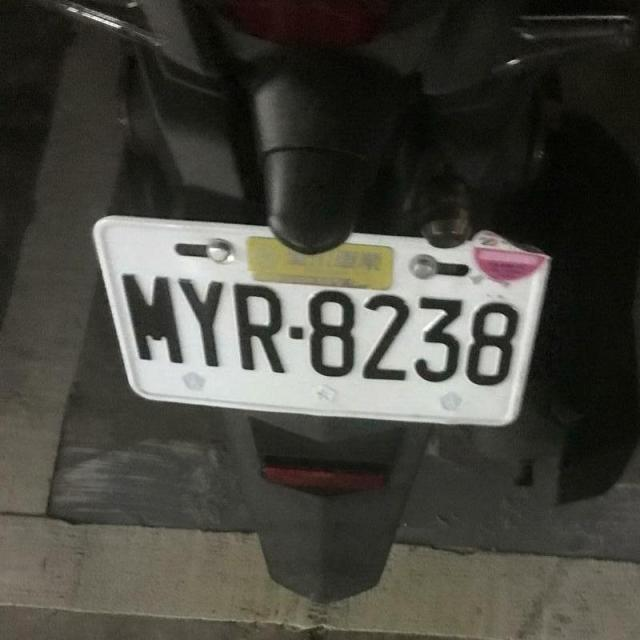W: (84, 195, 560, 450)
